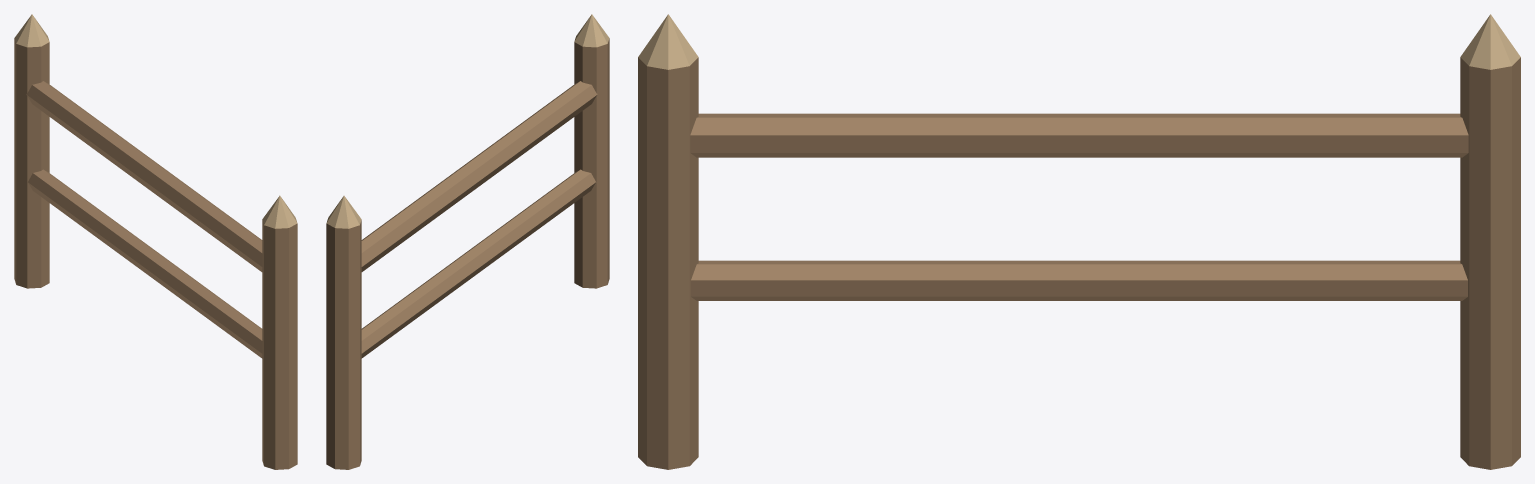
Rendered from fence_segment_wood_2m.glb.
The picture shows the model from 3 angles, left to right: view 1: azimuth 30°, elevation 25°; view 2: azimuth 150°, elevation 25°; view 3: azimuth 270°, elevation 25°; orthographic projection. The views are drawn at different scales.
Parts seen in each view (by area): view 1: fence_segment_wood_2m; view 2: fence_segment_wood_2m; view 3: fence_segment_wood_2m.
Boxes of the visible parts, x1,y1,x2,y2 form: fence_segment_wood_2m: (14,14,297,469); fence_segment_wood_2m: (326,14,609,469); fence_segment_wood_2m: (638,14,1520,469).
Size of the model in its own units: 0.14 by 1.13 by 2.04.
